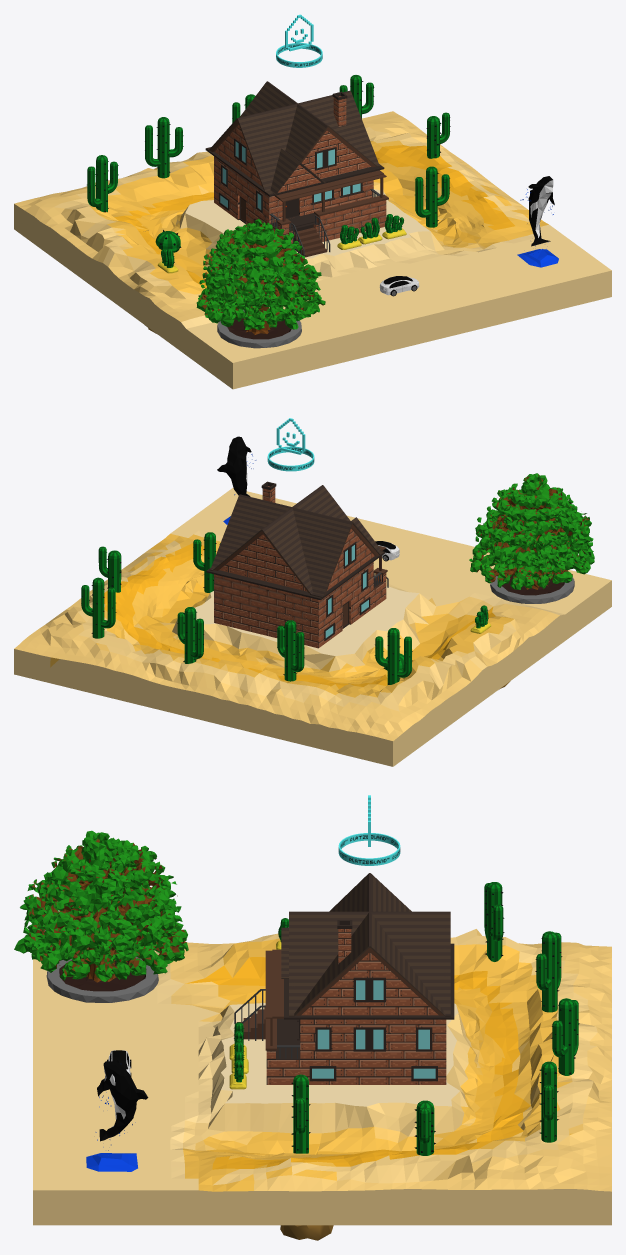
The picture shows the model from 3 angles, top to bottom: view 1: azimuth 30°, elevation 25°; view 2: azimuth 150°, elevation 25°; view 3: azimuth 270°, elevation 25°; orthographic projection. The views are drawn at different scales.
Visible parts, largest first — view 1: Cube.001, Cube.469, OBJRANDOM_CEIBA, ANIMAL_ORCA, Cylinder.044, Cylinder.037, Cylinder.045, TYPE_PREMIUM, Cylinder.038, Cylinder.042, VEHICLES_TESLA; view 2: Cube.001, Cube.469, OBJRANDOM_CEIBA, Cylinder.042, Cylinder.045, Cylinder.044, Cylinder.043, ANIMAL_ORCA, TYPE_PREMIUM, Cylinder.037, Cylinder.038; view 3: Cube.001, Cube.469, OBJRANDOM_CEIBA, ANIMAL_ORCA, Cylinder.043, Cylinder.044, Cylinder.045, Cylinder.042, Cylinder.037, TYPE_PREMIUM, Cylinder.038, UNDERGROUND_T_REX_BONES.
Boxes of the visible parts, x1,y1,x2,y2 form: Cube.001: [14, 111, 611, 389]; Cube.469: [205, 81, 388, 257]; OBJRANDOM_CEIBA: [196, 218, 325, 348]; ANIMAL_ORCA: [517, 176, 558, 267]; Cylinder.044: [145, 117, 183, 178]; Cylinder.037: [415, 166, 449, 227]; Cylinder.045: [87, 155, 118, 212]; TYPE_PREMIUM: [276, 14, 322, 67]; Cylinder.038: [426, 112, 450, 158]; Cylinder.042: [339, 75, 374, 118]; VEHICLES_TESLA: [379, 276, 419, 296]; Cube.001: [14, 488, 611, 766]; Cube.469: [206, 481, 388, 648]; OBJRANDOM_CEIBA: [469, 473, 594, 603]; Cylinder.042: [81, 577, 116, 638]; Cylinder.045: [374, 628, 412, 684]; Cylinder.044: [277, 620, 304, 681]; Cylinder.043: [177, 607, 203, 663]; ANIMAL_ORCA: [217, 436, 256, 524]; TYPE_PREMIUM: [267, 418, 314, 471]; Cylinder.037: [193, 532, 220, 592]; Cylinder.038: [98, 546, 121, 592]; Cube.001: [33, 929, 611, 1225]; Cube.469: [234, 873, 454, 1084]; OBJRANDOM_CEIBA: [14, 830, 188, 1002]; ANIMAL_ORCA: [86, 1060, 148, 1171]; Cylinder.043: [551, 998, 579, 1075]; Cylinder.044: [535, 931, 562, 1012]; Cylinder.045: [484, 882, 504, 961]; Cylinder.042: [539, 1061, 558, 1142]; Cylinder.037: [291, 1074, 310, 1153]; TYPE_PREMIUM: [338, 795, 400, 865]; Cylinder.038: [414, 1100, 435, 1155]; UNDERGROUND_T_REX_BONES: [280, 1225, 333, 1240].
Bounding box in the file's own units: 4015 × 2550 × 4132.
30 materials, 4 textured.
